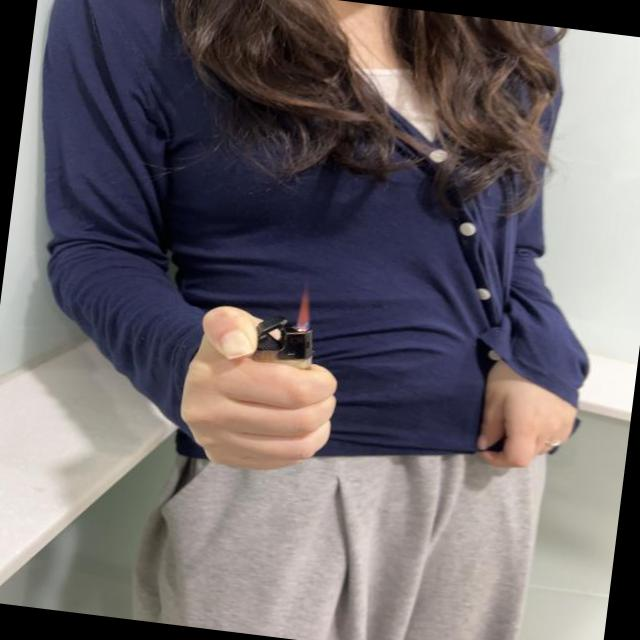Fire: (294, 291, 314, 330)
